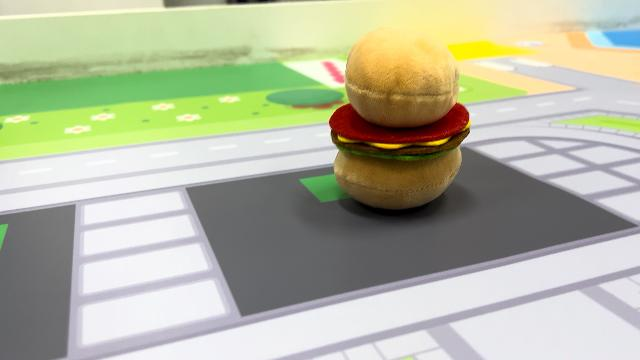burger: (325, 23, 475, 212)
